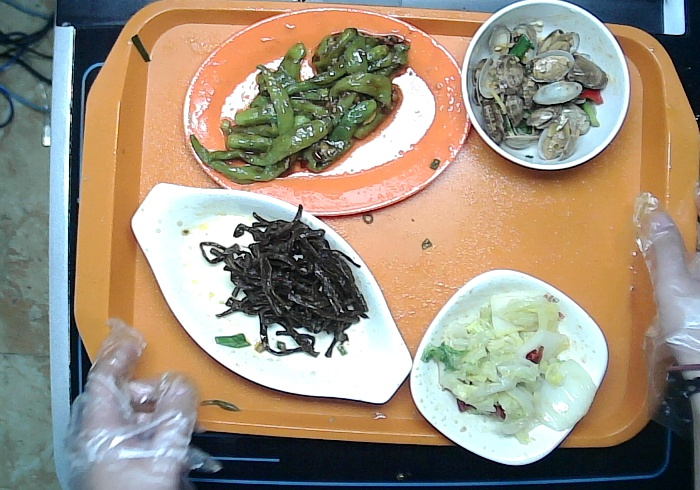NLDX-Bai_Se_Xiao_Fang_Die: (406, 266, 610, 468)
NLDX-Fan_Wan: (458, 1, 634, 175)
NLDX-Ju_Se_Pan: (178, 5, 475, 221)
NLDX-Yu_Pan: (128, 180, 414, 406)
